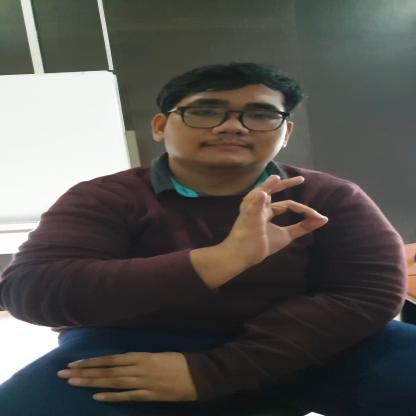O: (229, 173, 334, 260)
